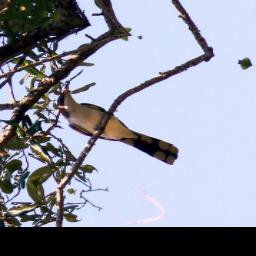Cuckoo: (45, 80, 196, 169)
